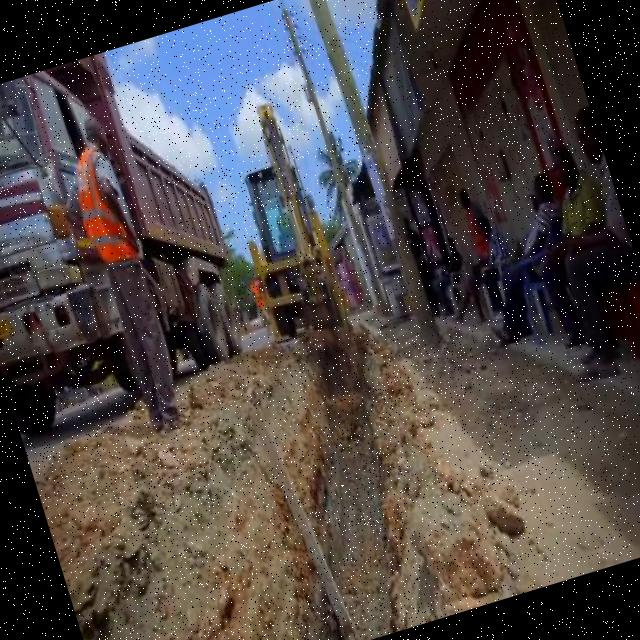Dump Truck: (0, 34, 263, 441)
